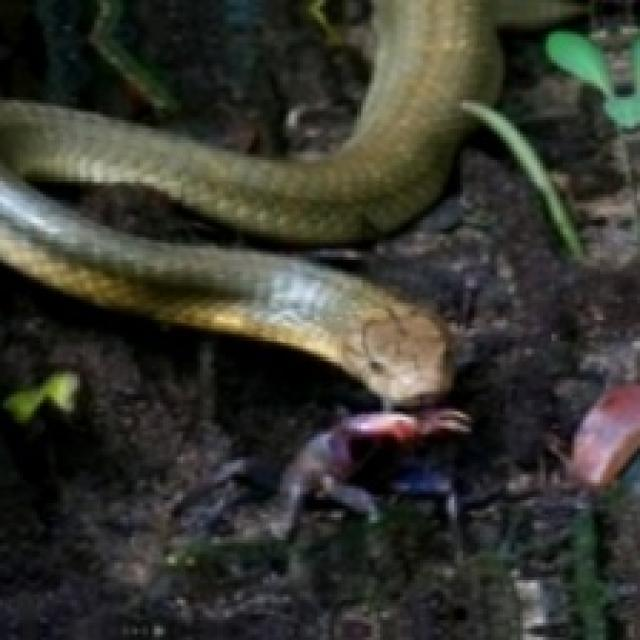king cobra: (0, 0, 500, 400)
